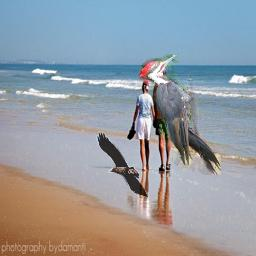Crow: (96, 131, 148, 198)
Woodpecker: (139, 54, 221, 175)
